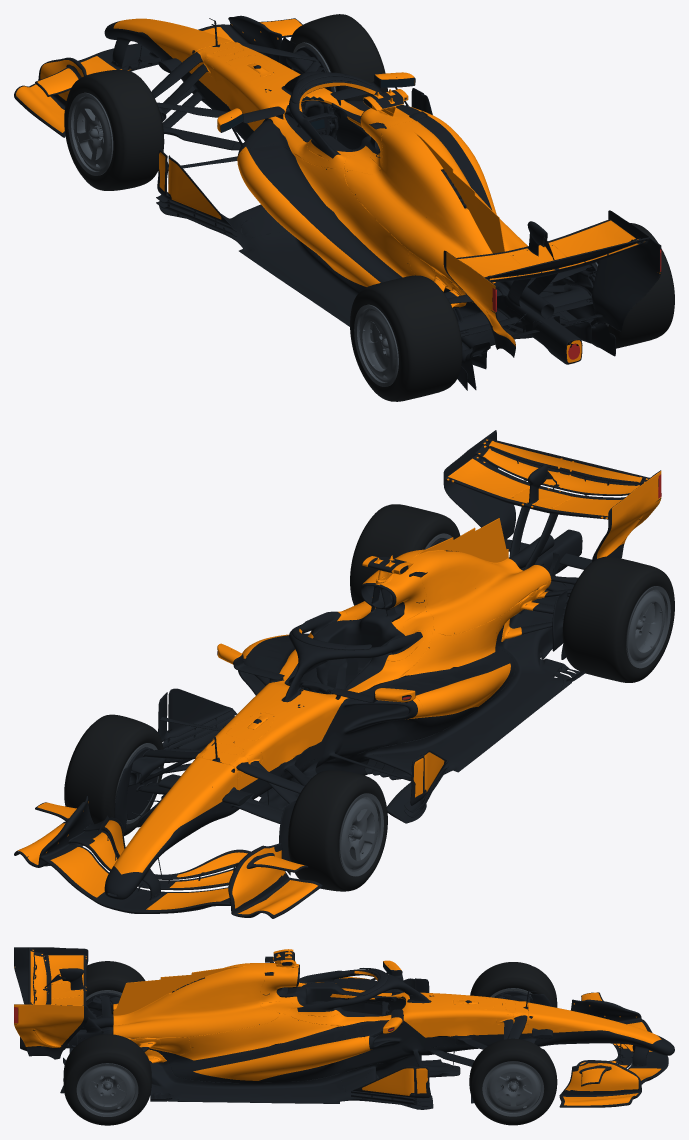
The model's file is mclaren-medium.glb.
3 views of the same model, one above another, from view 1: azimuth 30°, elevation 25°; view 2: azimuth 150°, elevation 25°; view 3: azimuth 270°, elevation 25° (orthographic). The views are drawn at different scales.
Visible parts, largest first — view 1: body, wheel2, wheel0, rearFlaps, frontFlaps, wheel1, frontWing, wheel3, rearWing; view 2: body, frontFlaps, wheel2, rearFlaps, wheel0, frontWing, wheel1, wheel3, rearWing; view 3: body, wheel3, frontFlaps, wheel1, rearFlaps, frontWing, wheel0, wheel2, rearWing.
Part boxes in pixels (x1,y1,x2,y2): body: (151, 18, 653, 390); wheel2: (350, 275, 462, 401); wheel0: (64, 69, 164, 190); rearFlaps: (443, 210, 661, 312); frontFlaps: (24, 15, 294, 100); wheel1: (290, 14, 387, 101); frontWing: (14, 18, 302, 137); wheel3: (592, 223, 674, 348); rearWing: (449, 251, 661, 322); body: (114, 493, 652, 875); frontFlaps: (23, 778, 292, 914); wheel2: (562, 556, 674, 682); rearFlaps: (443, 430, 661, 534); wheel0: (288, 770, 387, 891); frontWing: (14, 802, 322, 918); wheel1: (64, 714, 163, 835); wheel3: (350, 504, 460, 605); rearWing: (448, 464, 661, 541); body: (17, 949, 555, 1109); wheel3: (63, 1034, 151, 1125); frontFlaps: (555, 996, 674, 1096); wheel1: (469, 1038, 557, 1125); rearFlaps: (14, 947, 88, 1024); frontWing: (559, 992, 668, 1107); wheel0: (470, 962, 557, 1007); wheel2: (86, 961, 145, 1000); rearWing: (14, 967, 86, 1030).
Size of the model in its own units: 1.9 by 1.2 by 5.54.
